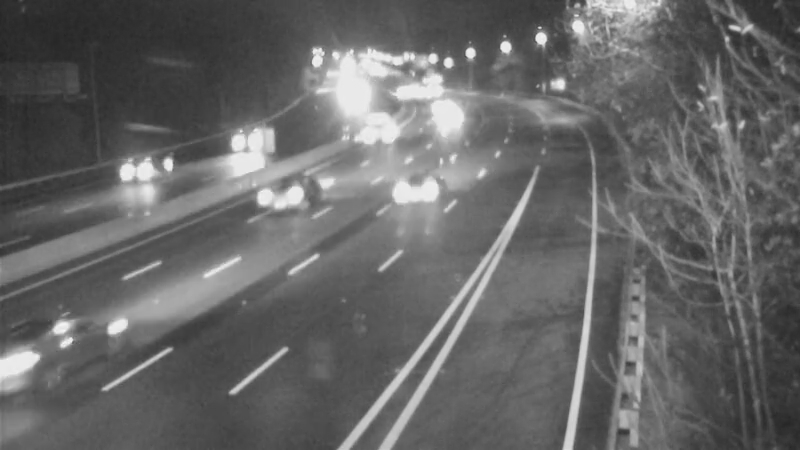vehicle: (1, 302, 94, 412), (376, 154, 456, 234), (242, 155, 322, 235), (103, 129, 183, 209), (406, 68, 456, 118), (375, 67, 425, 117), (411, 82, 461, 132), (427, 97, 477, 147), (355, 107, 405, 157), (216, 124, 266, 174)
